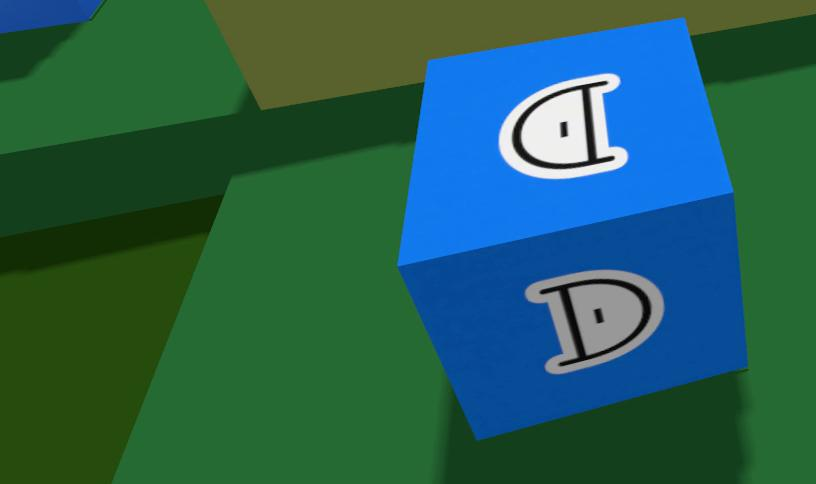KFS_REAL: (399, 19, 747, 438), (526, 270, 664, 373), (500, 74, 627, 178), (0, 0, 102, 31)
